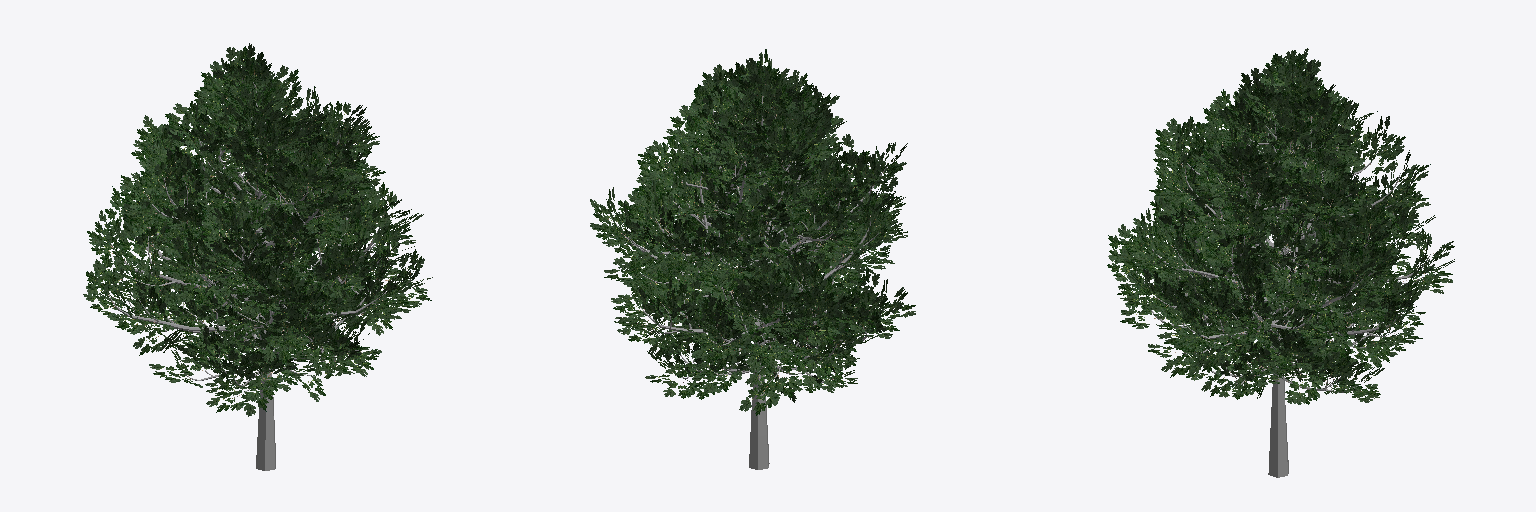
The picture shows the model from 3 angles: view 1: azimuth 30°, elevation 25°; view 2: azimuth 150°, elevation 25°; view 3: azimuth 270°, elevation 25°; orthographic projection.
Visible parts, largest first — view 1: leaves.006, tree.002; view 2: leaves.006, tree.002; view 3: leaves.006, tree.002.
Boxes of the visible parts, box(x1,y1,x2,y2) form: leaves.006: box(83, 43, 432, 416); tree.002: box(109, 78, 410, 470); leaves.006: box(590, 49, 915, 415); tree.002: box(613, 96, 887, 469); leaves.006: box(1107, 48, 1454, 404); tree.002: box(1136, 89, 1430, 477).
Bounding box in the file's own units: 10.37 × 13.69 × 10.82.
2 materials, 1 textured.